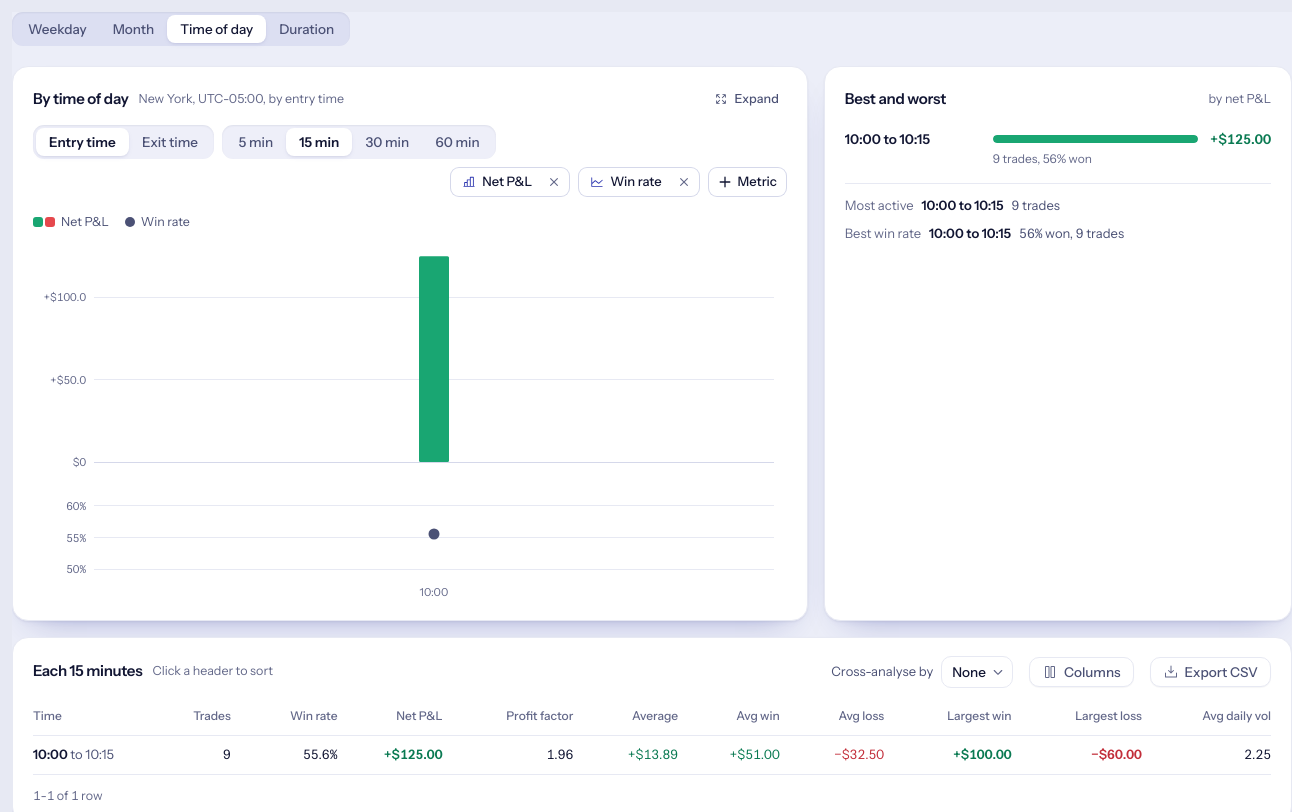
Scenario: switching to Exit moves the trades to the bucket they closed in
Click the radio button labelled "Exit time" at (170, 142), box [142,134,198,150]
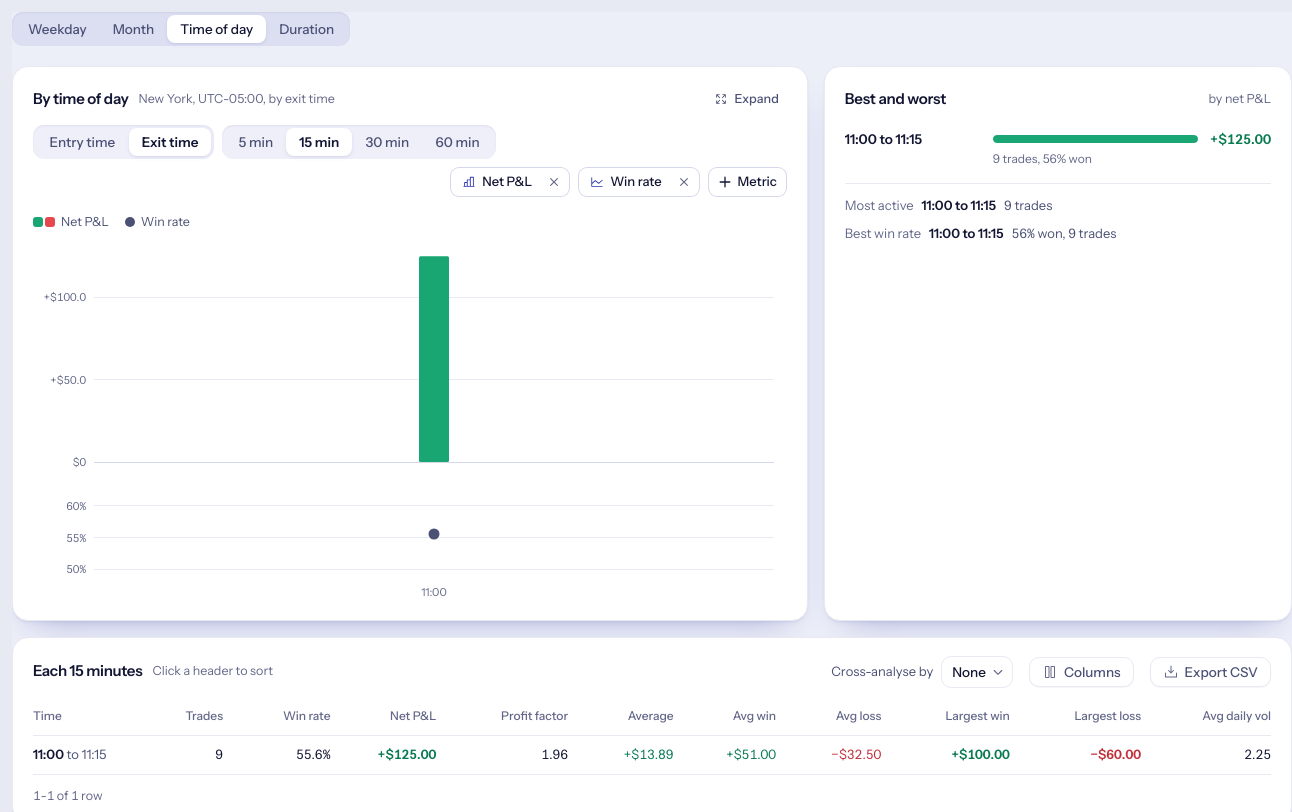
Expected: the picture named "by exit" is shown, [33,240,787,604]
